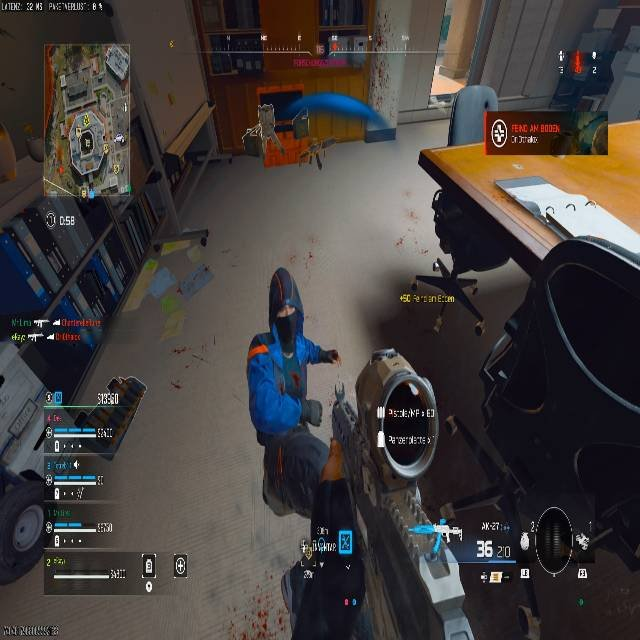head: (355, 348, 439, 464), (268, 271, 305, 342)
player: (244, 267, 343, 590)
